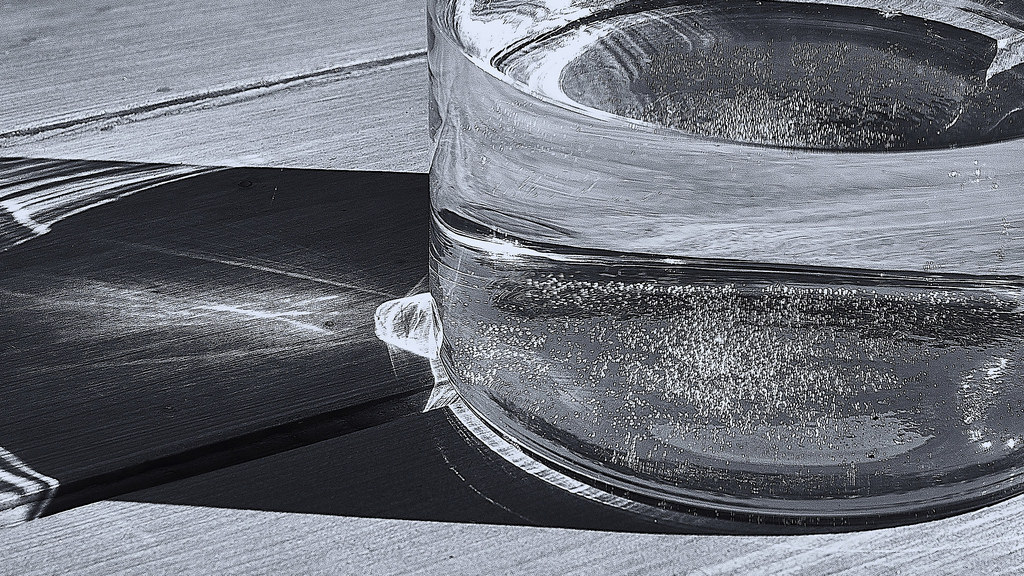glass of water: (404, 29, 1024, 547)
